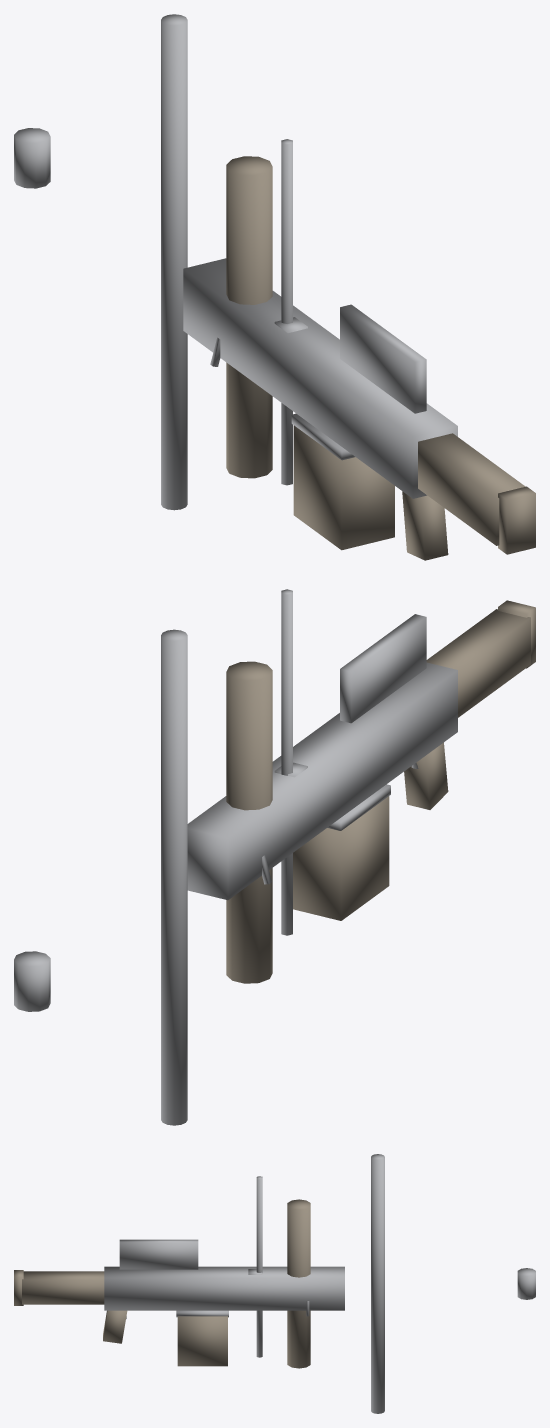
The model's file is lmg.glb.
3 renders of one model, top to bottom at view 1: azimuth 30°, elevation 25°; view 2: azimuth 150°, elevation 25°; view 3: azimuth 270°, elevation 25°, orthographic. The views are drawn at different scales.
Visible parts, largest first — view 1: metal, poly; view 2: metal, poly; view 3: metal, poly.
Boxes of the visible parts, <box> form: metal: <box>14,14,457,510</box>; poly: <box>226,156,535,560</box>; metal: <box>14,589,457,1125</box>; poly: <box>226,600,535,983</box>; metal: <box>104,1154,535,1413</box>; poly: <box>14,1199,310,1368</box>.
Bounding box in the file's own units: 0.0817 × 0.64 × 1.19.
